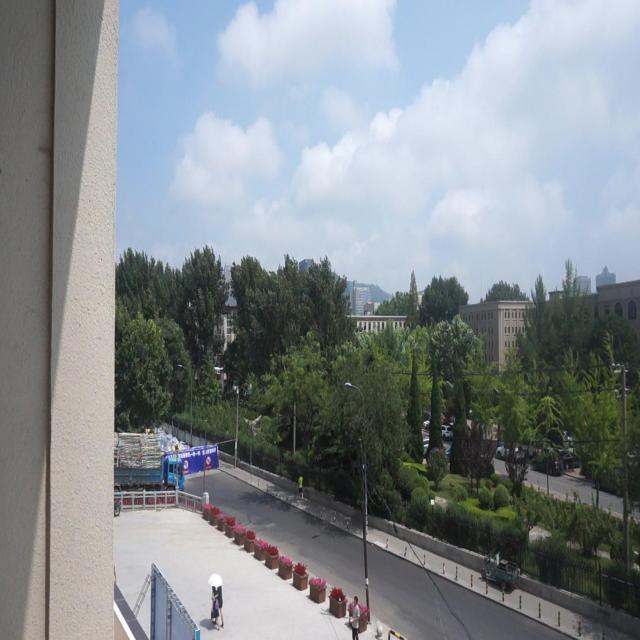UAV: (214, 367, 223, 374)
